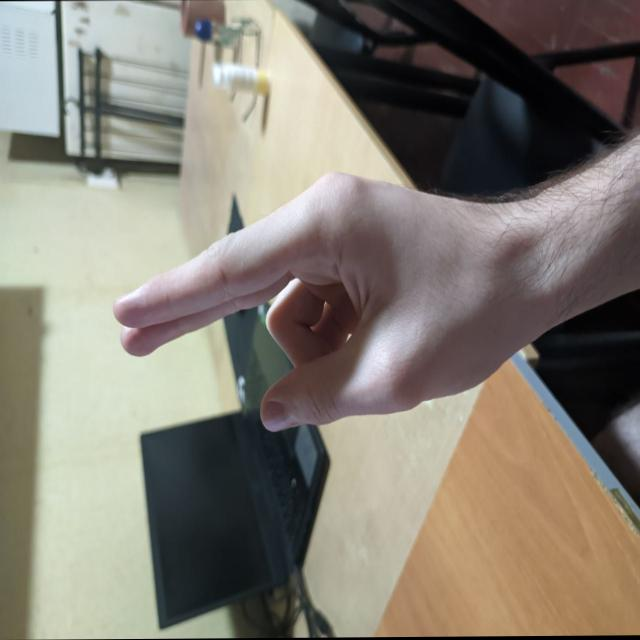d: (111, 172, 444, 460)
